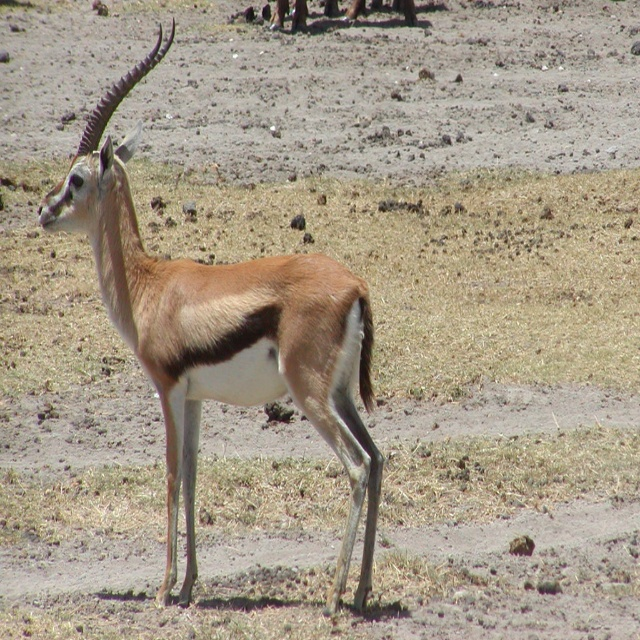Deer: (37, 16, 383, 616)
